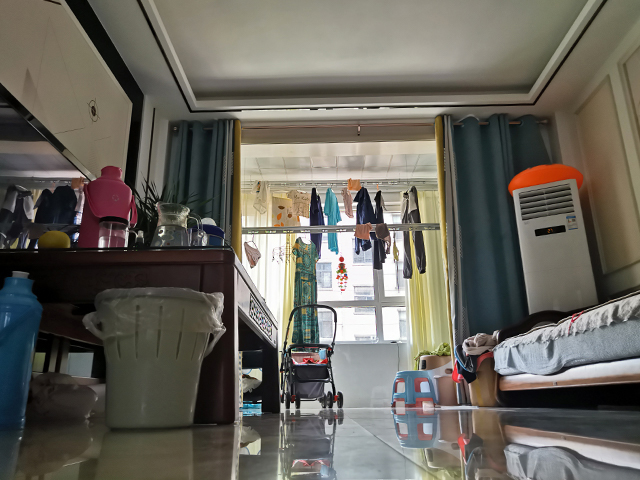curtain: (445, 115, 528, 334)
stool: (389, 369, 441, 408)
table: (1, 244, 285, 427), (459, 289, 640, 410)
trashcan: (93, 285, 222, 432)
